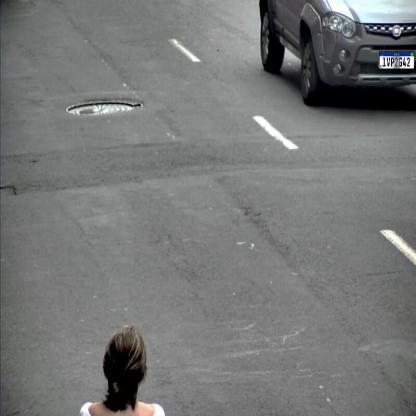PlacaM: (379, 52, 415, 70)
